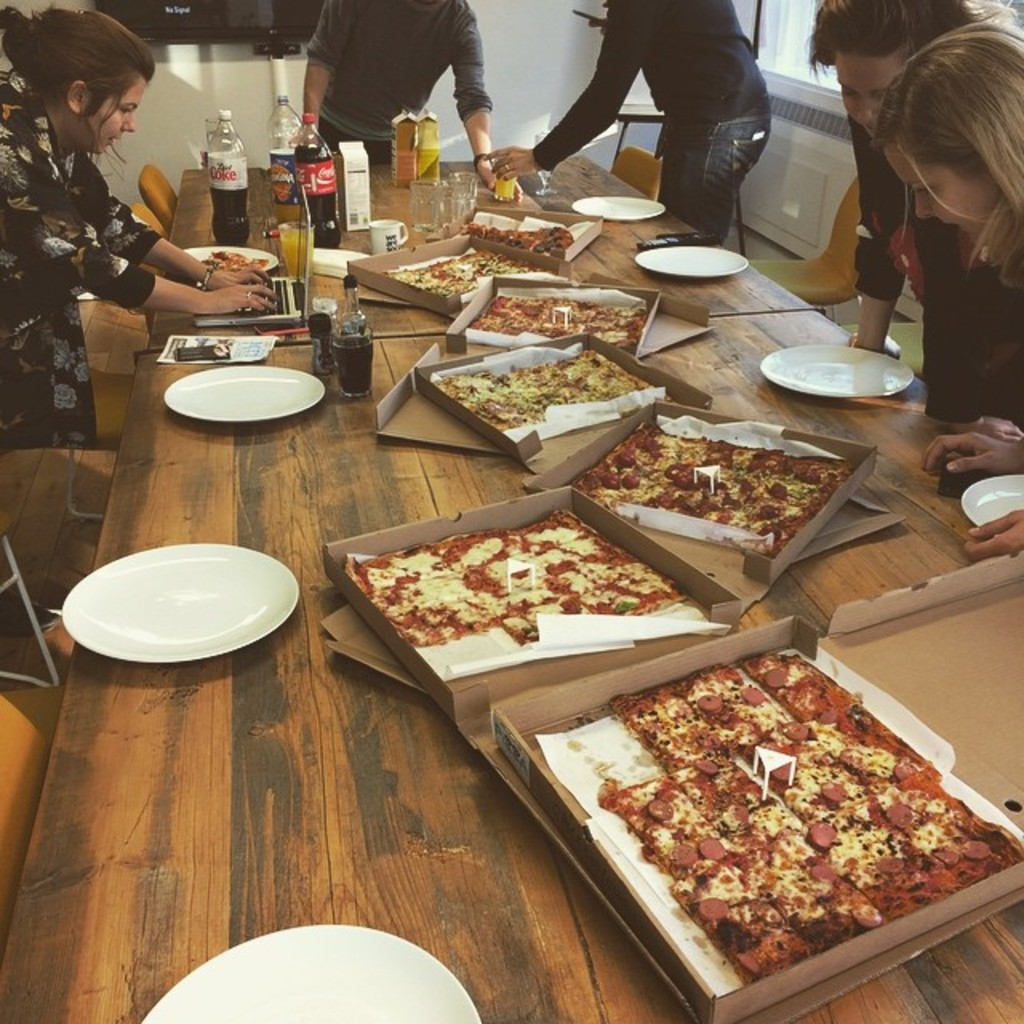Pizza: (596, 627, 1022, 992), (339, 496, 676, 681), (566, 411, 851, 548), (430, 337, 649, 435), (460, 291, 652, 361), (385, 243, 548, 299), (459, 214, 577, 257), (193, 236, 280, 276)
